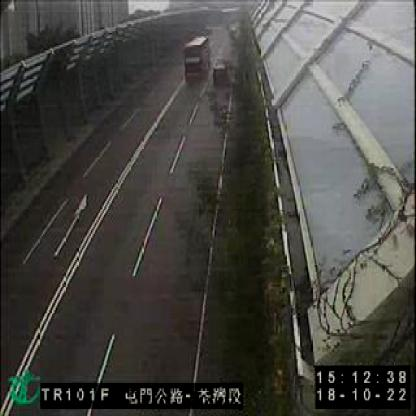Bus: (182, 35, 210, 86)
Car: (212, 63, 231, 89)
